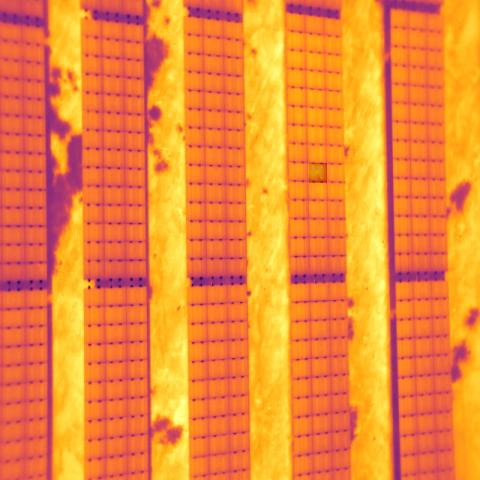fault: (309, 163, 327, 183)
